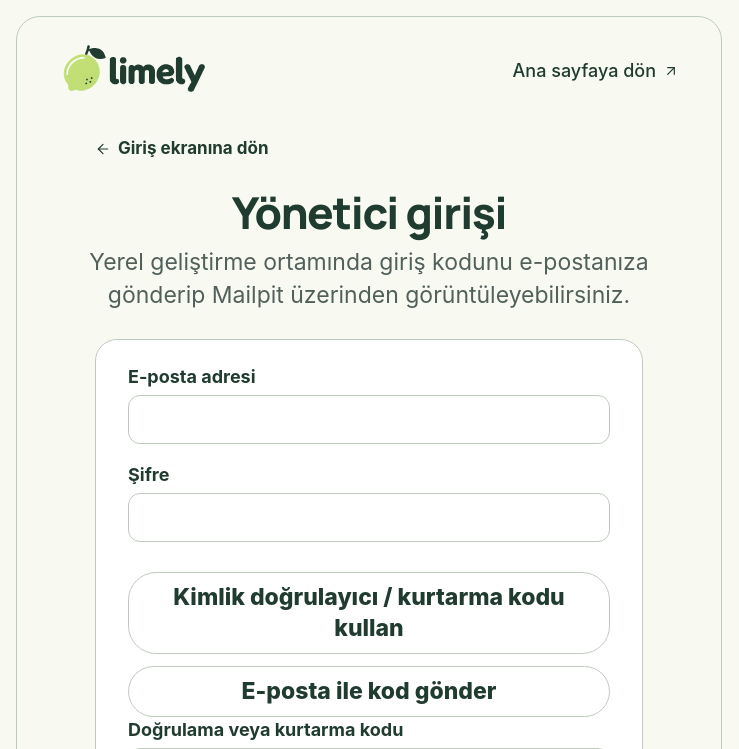
Test: dietitian application and administrator verification › requests a local email code using CSRF without logging in and blocks repeated delivery
Type " admin@example.test " into the field labelled "E-posta adresi" at [369, 419], box [128, 395, 610, 444]
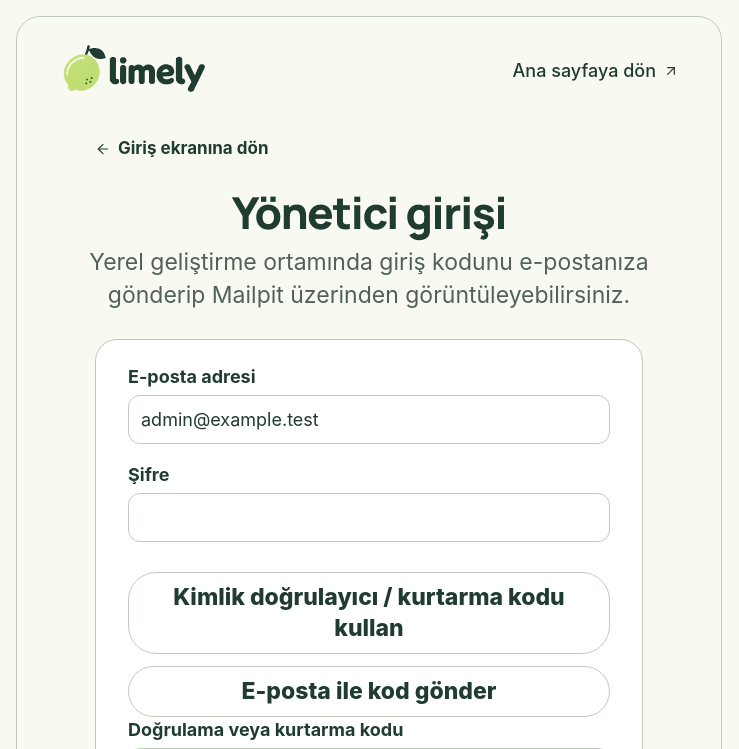
Type " synthetic password " into the password field labelled "Şifre" at [369, 518], box [128, 493, 610, 542]
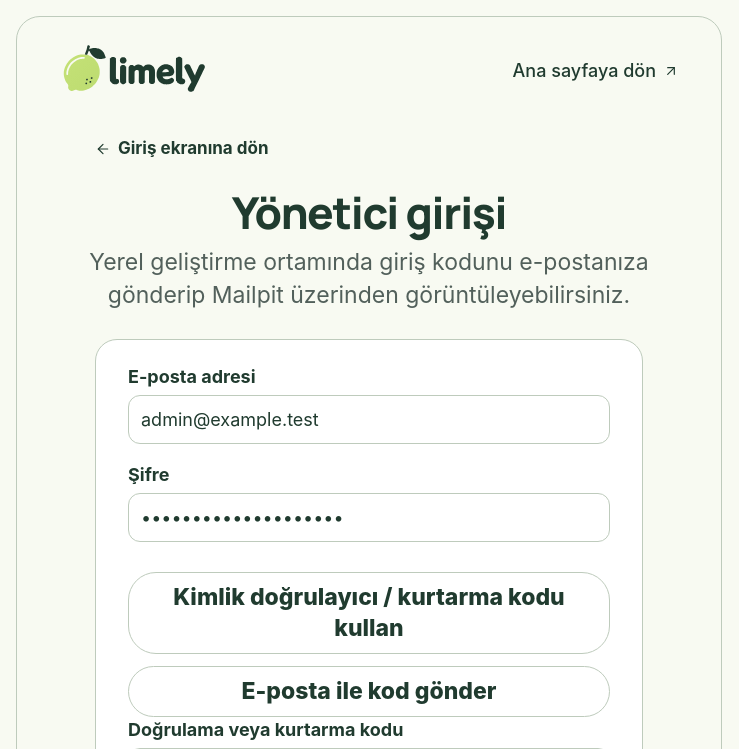
Click the button "E-posta ile kod gönder" at [369, 692], box [128, 666, 610, 717]
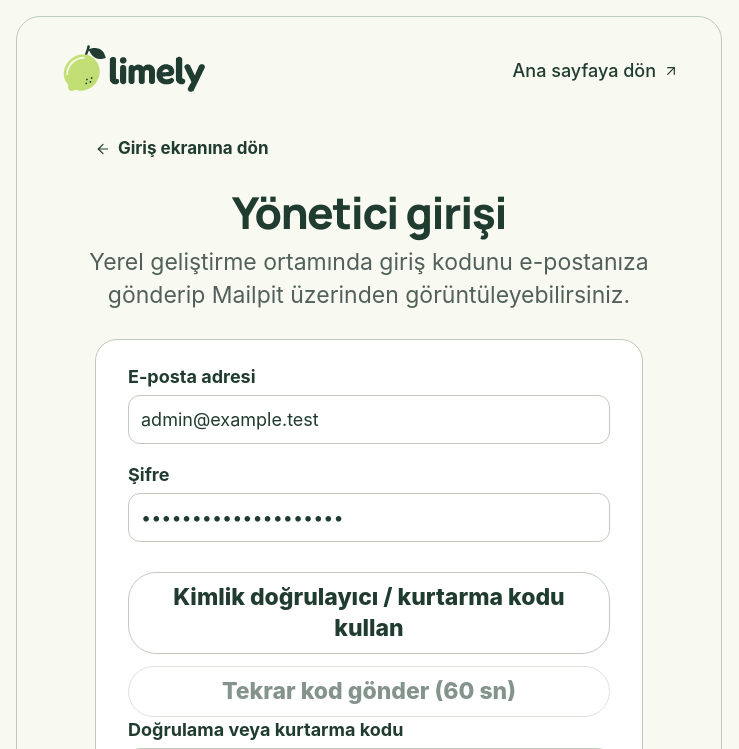
Expected: the heading "Yönetici girişi" is shown, [232, 182, 506, 242]
Expected: the button "Tekrar kod gönder (60 sn)" is disabled, [128, 666, 610, 717]
